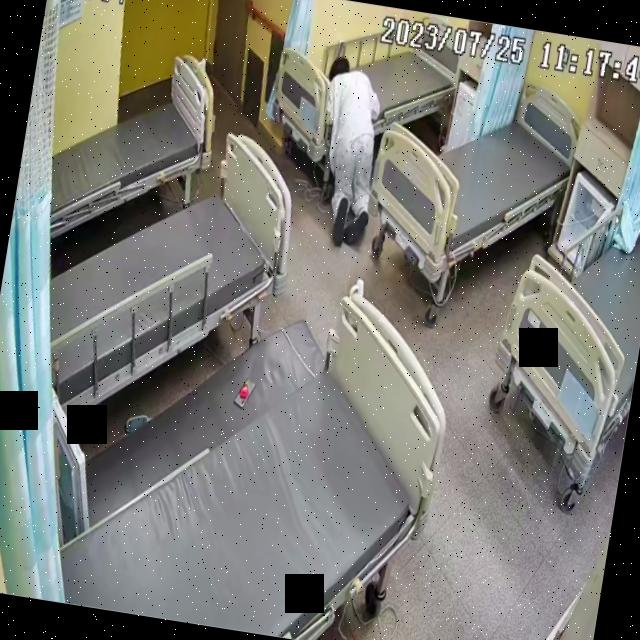bed: (50, 263, 454, 640), (25, 113, 302, 439), (484, 172, 640, 483), (360, 69, 582, 279), (39, 36, 226, 255), (270, 9, 463, 179)
fall: (297, 50, 394, 258)
patient: (298, 46, 396, 258)
